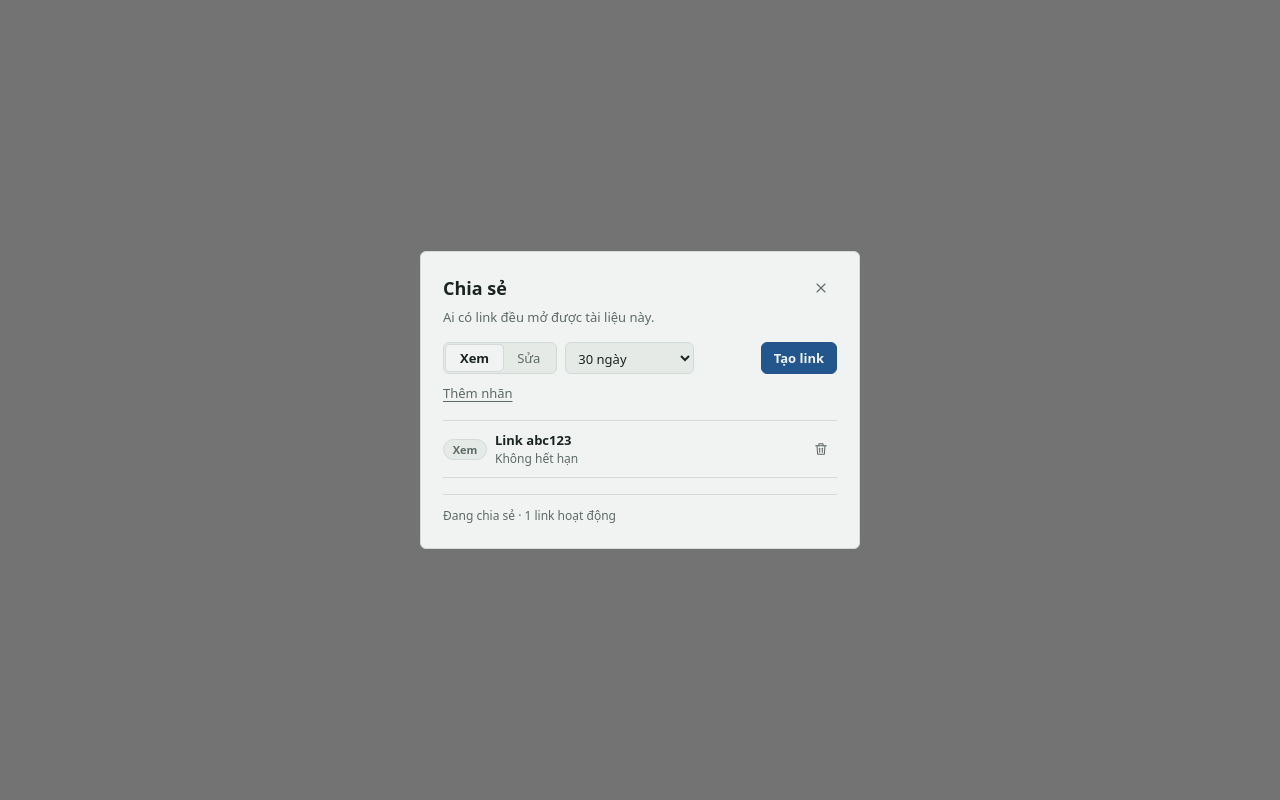
Test case: ShareModal › confirming row removed then re-added is no longer confirming
This screenshot has width=1280, height=800.
What coordinates should you click on to do the following:
click the button named "Thu hồi link"
I would click on:
 (821, 449)
Its box is [805,433,837,465].
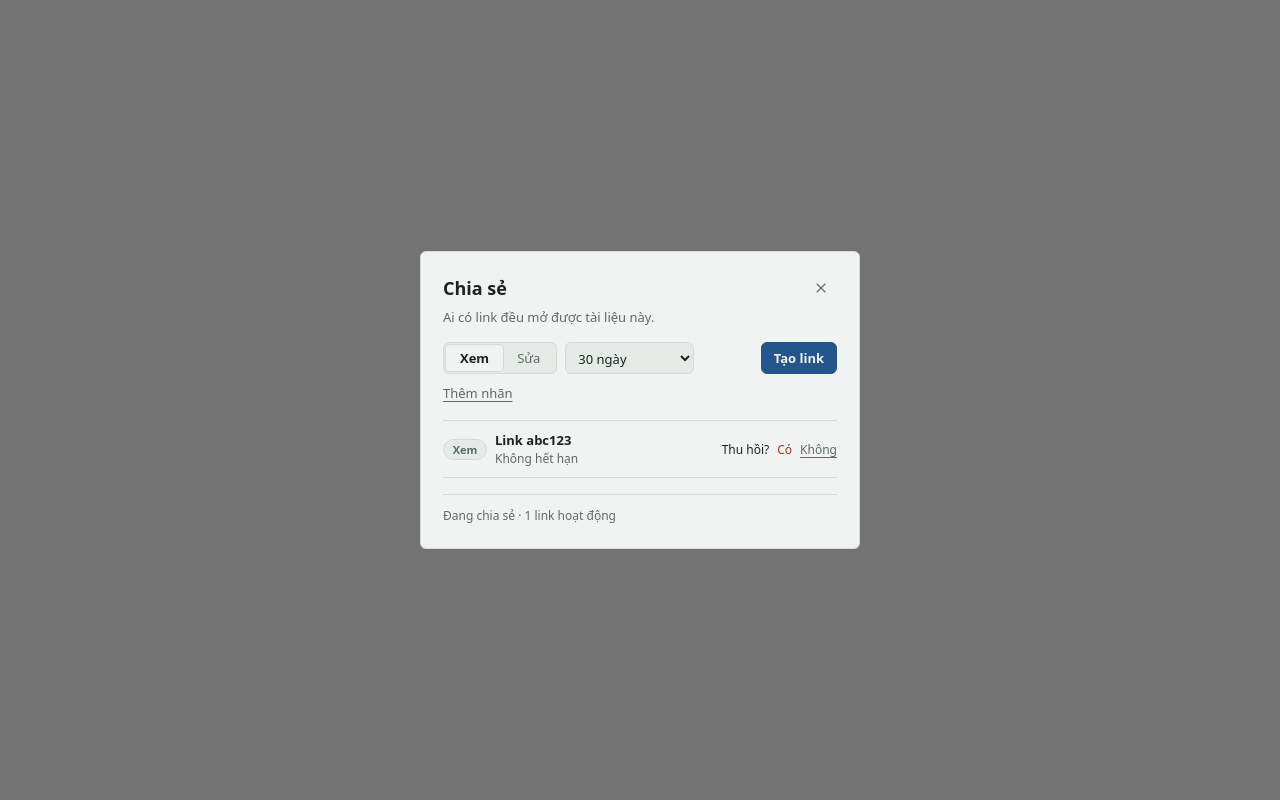
Expected: the text "Thu hồi?" is shown, [722,441,769,458]
